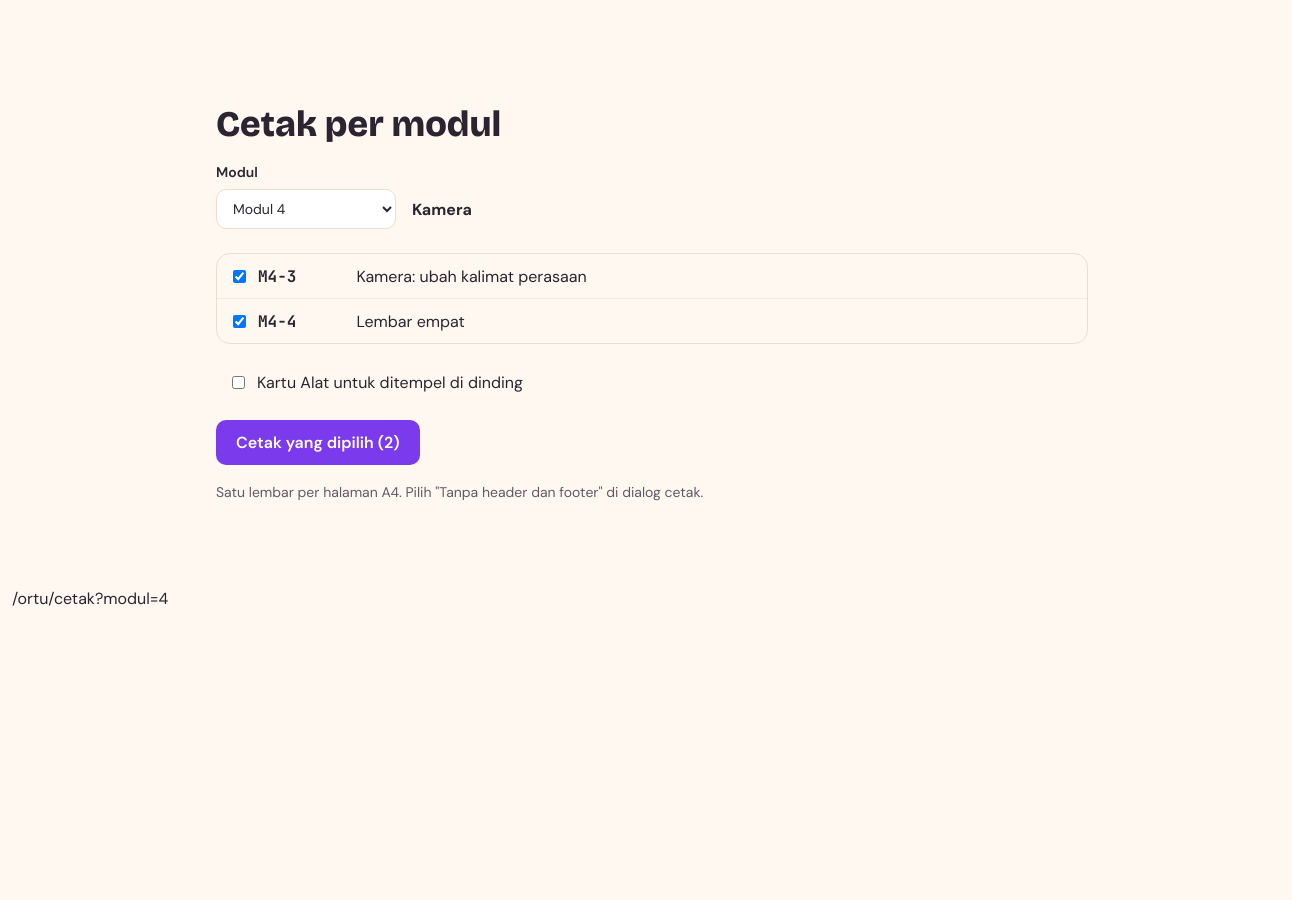
Test: Pojok Orang Tua › Cetak per modul: lembar yang dipilih dicetak satu per halaman beserta Kartu Alat
Click the checkbox labelled "M4-4 Lembar empat": (240, 321) [233,315,246,328]
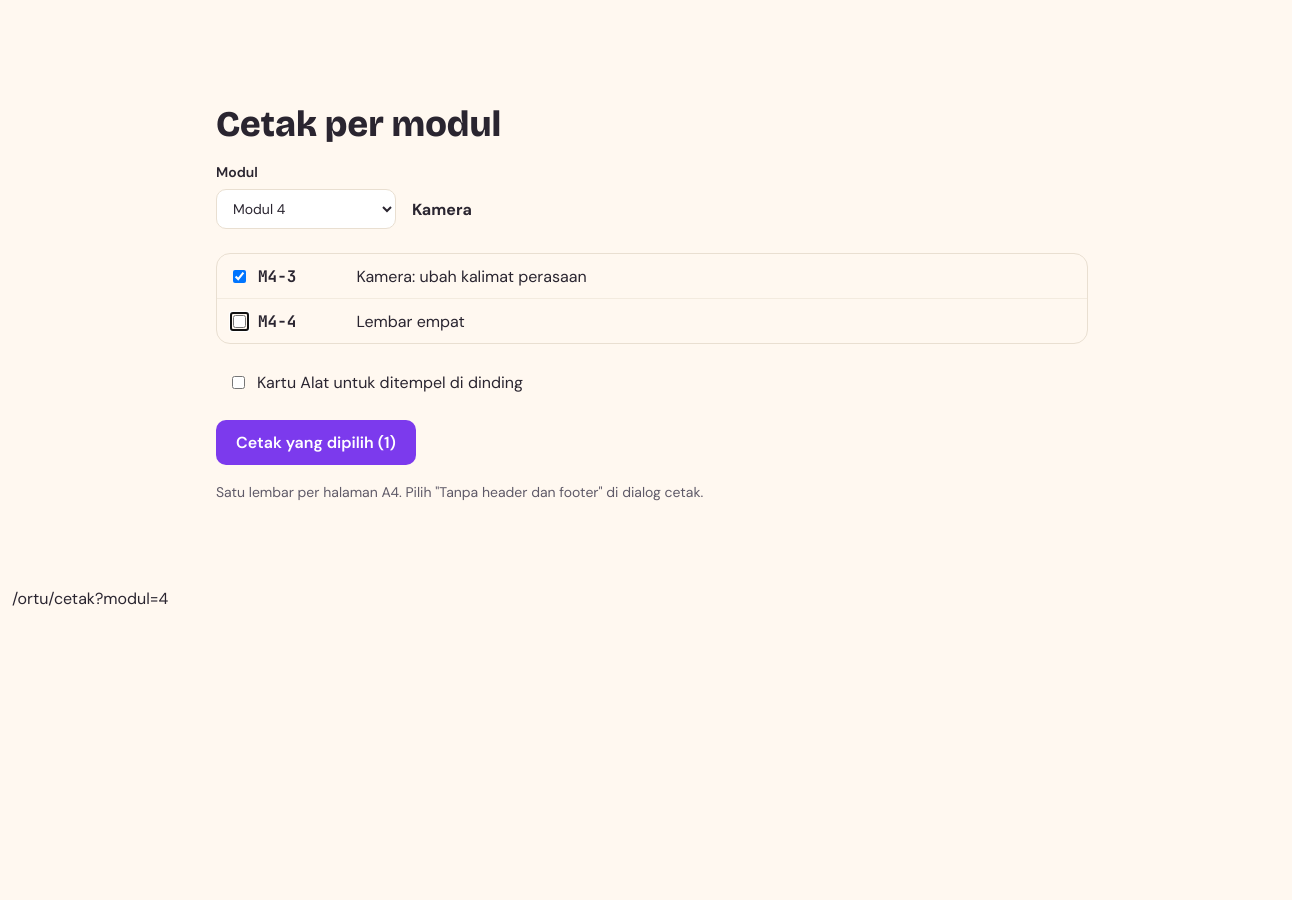
Click the checkbox labelled "Kartu Alat untuk ditempel di dinding": (238, 382) [232,376,245,389]
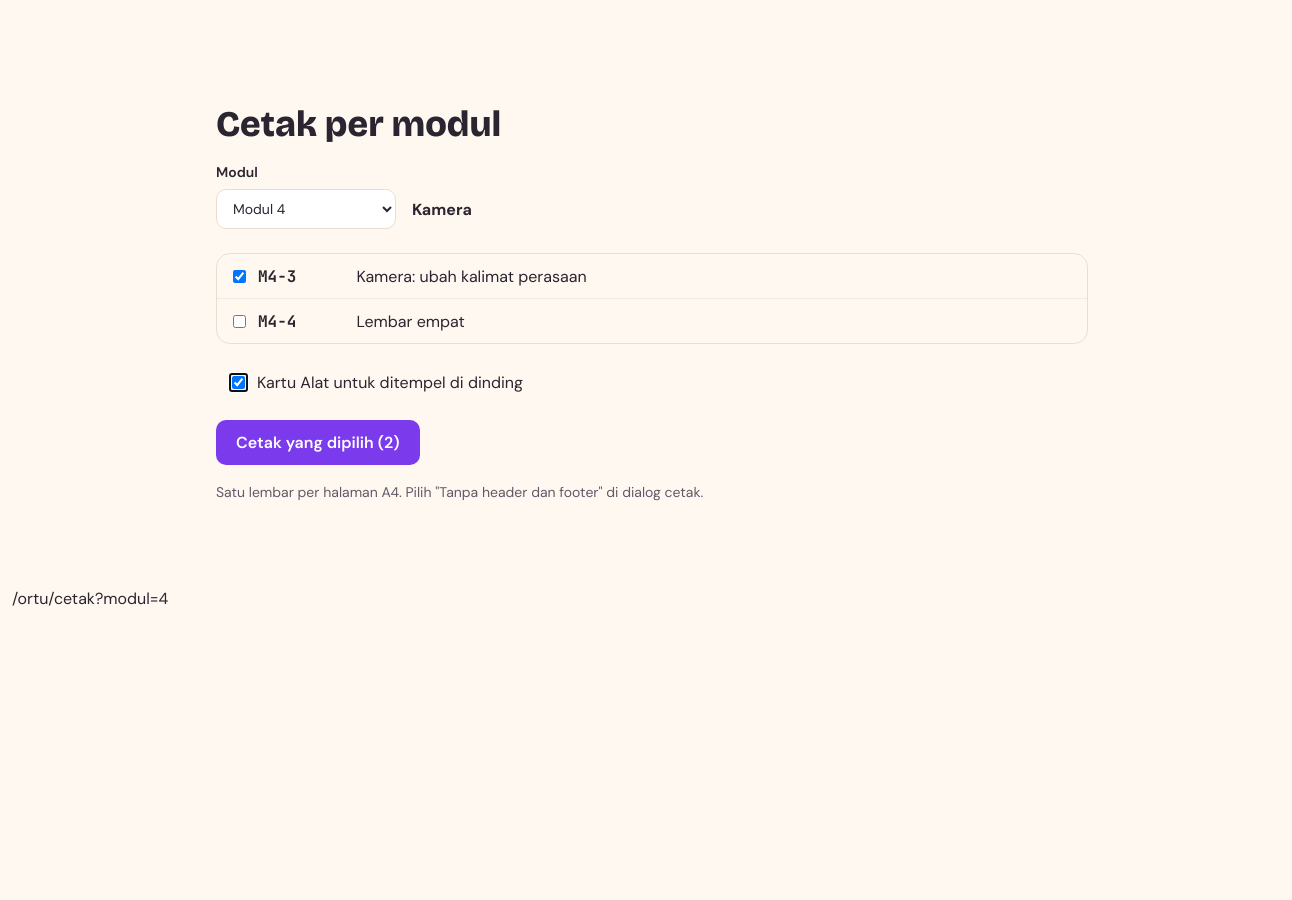
Click the button "Cetak yang dipilih (2)": (318, 443) [216,420,420,465]
(page scrolled)
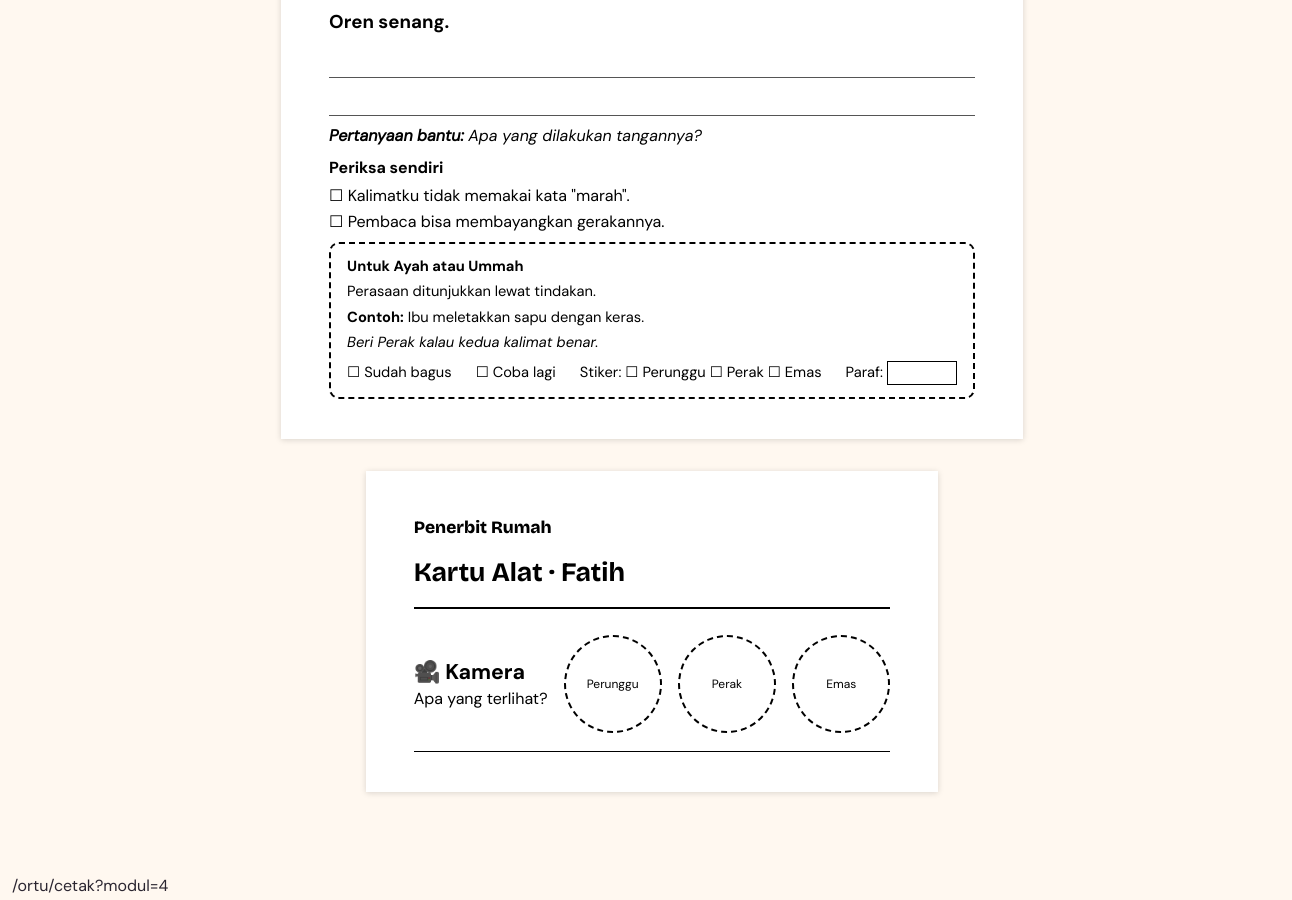
Check: the element labelled "Kartu Alat" shows "Kamera", box [445,658,525,686]
